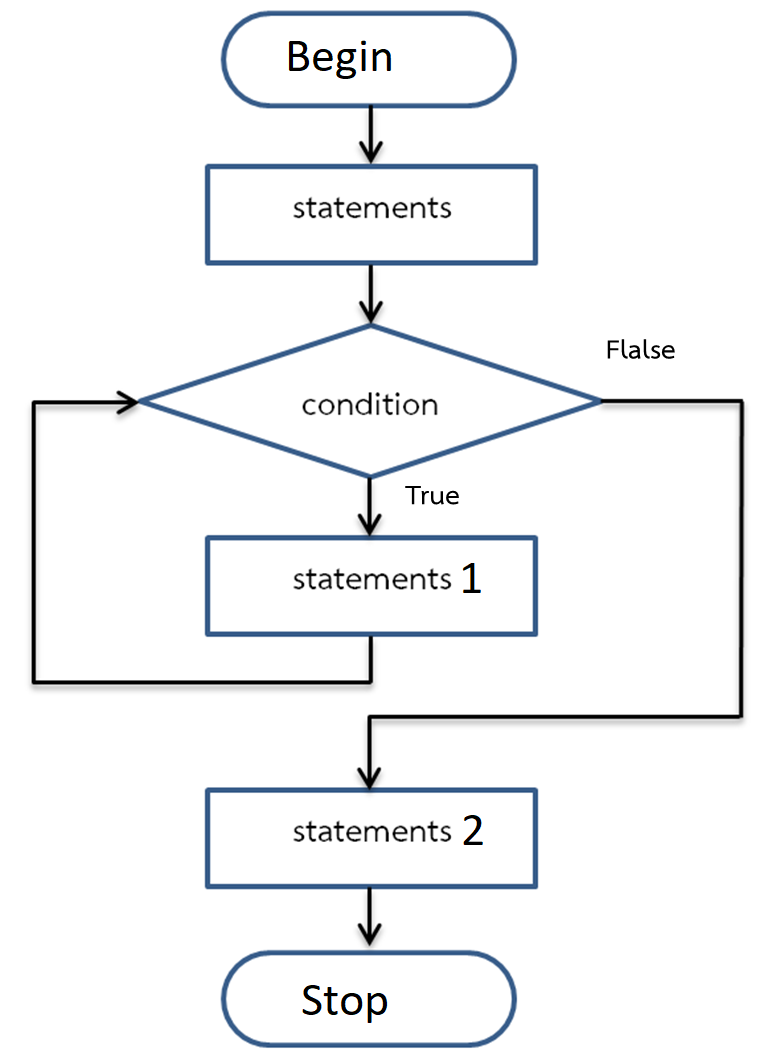arrow: (353, 394, 751, 791), (21, 384, 379, 692), (354, 883, 385, 952), (358, 468, 383, 541), (356, 255, 383, 320), (359, 100, 385, 167)
decision: (133, 321, 609, 478)
process: (201, 157, 543, 273), (198, 529, 546, 641), (201, 781, 543, 891)
terminator: (214, 944, 524, 1052), (217, 7, 521, 115)
text: (287, 809, 487, 850), (288, 563, 487, 597), (283, 34, 396, 81), (288, 192, 454, 223), (298, 981, 393, 1031), (300, 388, 443, 418), (604, 334, 677, 360), (404, 478, 462, 509)
